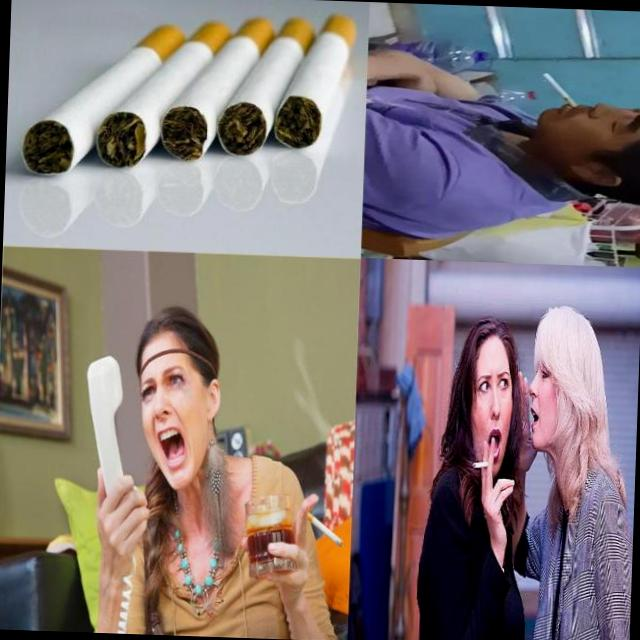cigarette: (21, 20, 186, 180), (96, 16, 234, 172), (160, 14, 276, 165), (216, 13, 316, 159), (273, 10, 357, 152), (302, 506, 344, 546), (542, 72, 578, 108), (472, 459, 490, 470)
